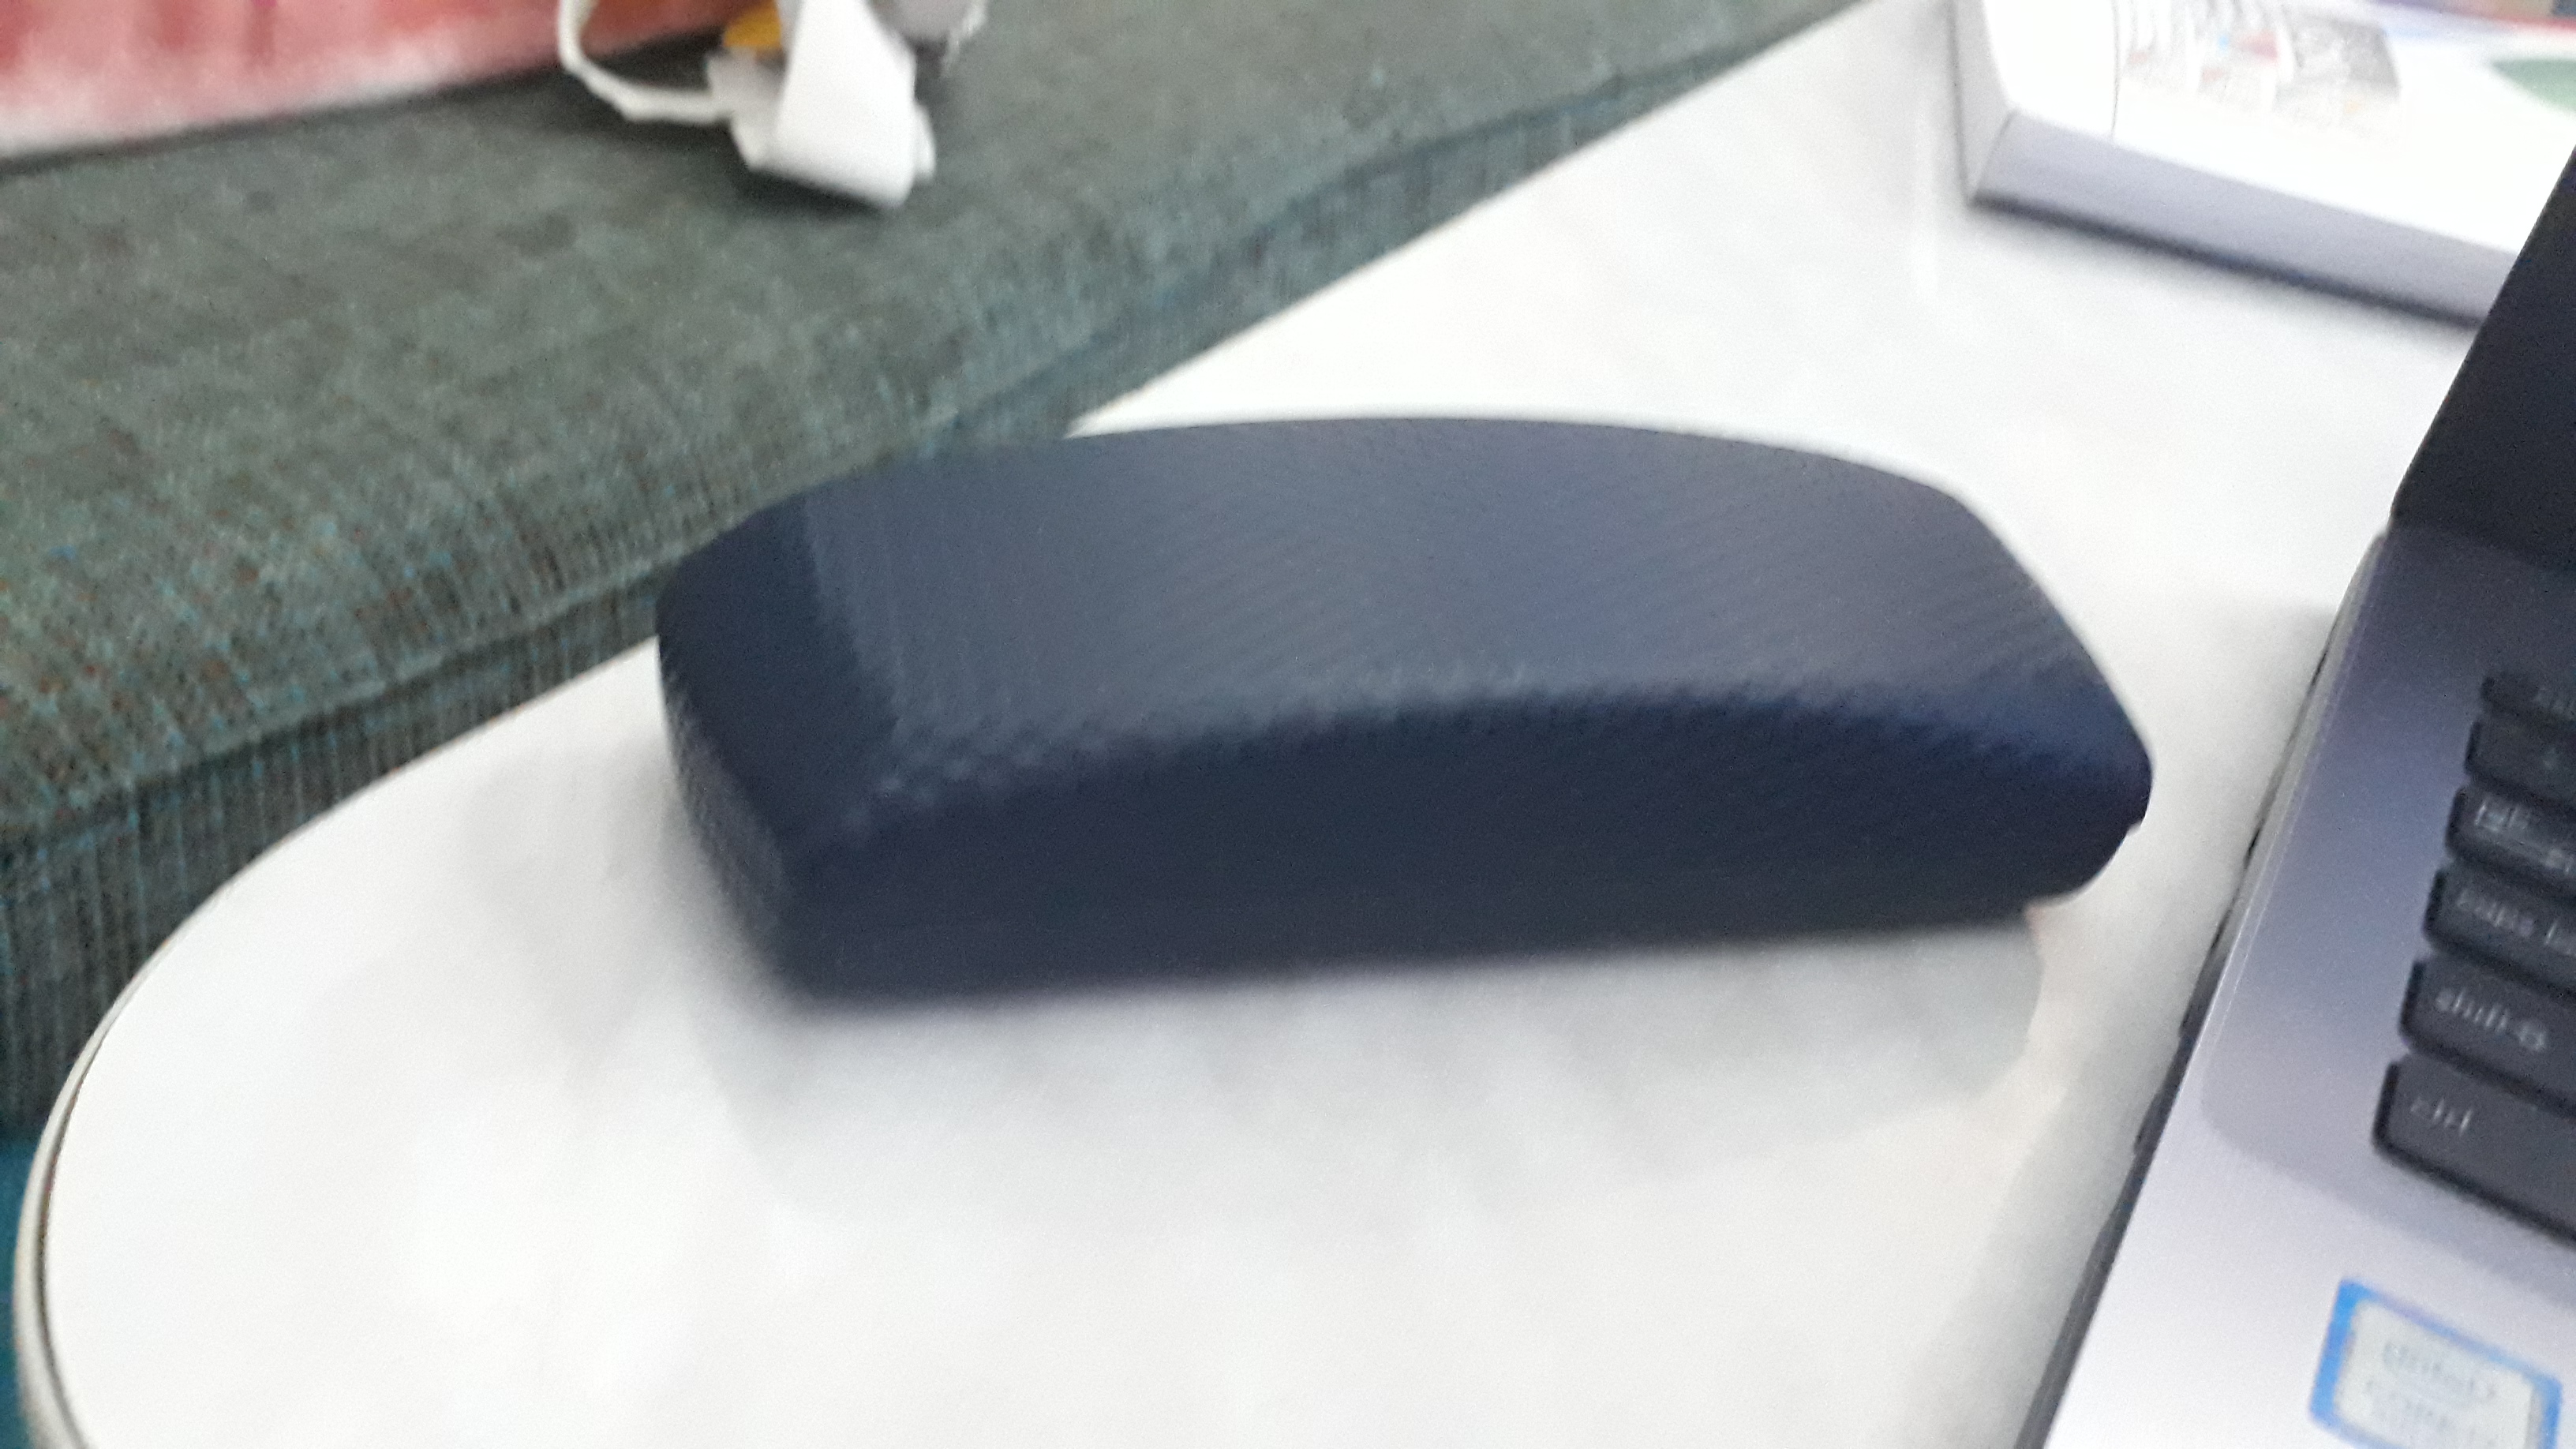nadar: (642, 386, 2176, 1031)
